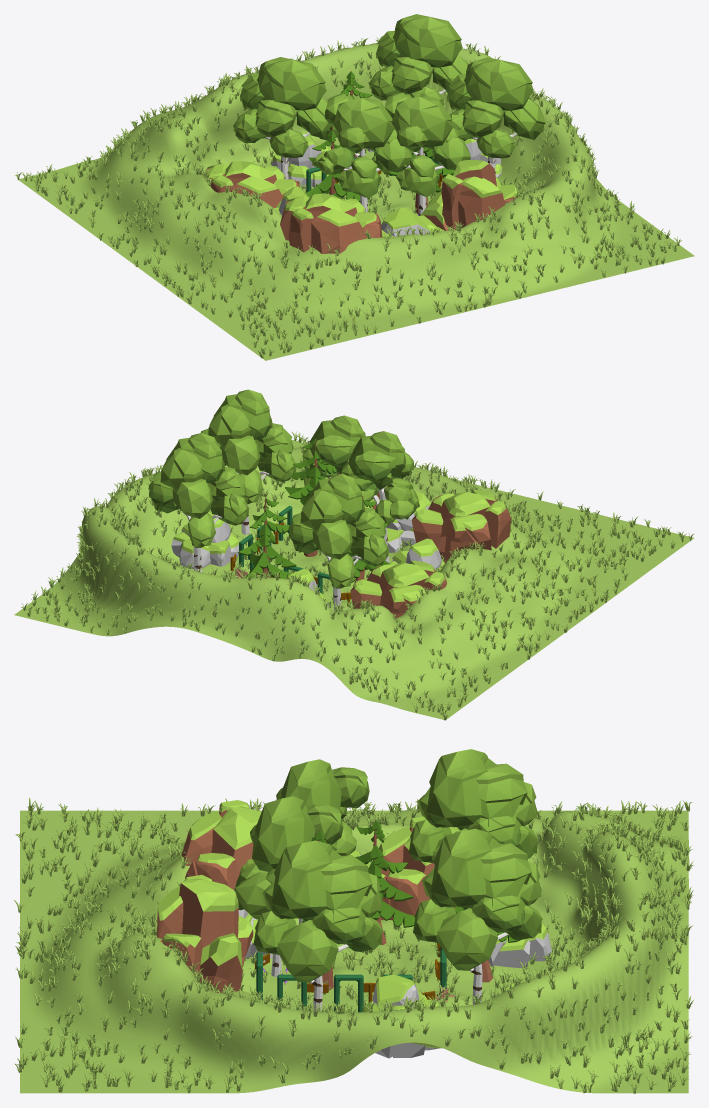
The model's file is Intro2.glb.
3 renders of one model, top to bottom at view 1: azimuth 30°, elevation 25°; view 2: azimuth 150°, elevation 25°; view 3: azimuth 270°, elevation 25°, orthographic. The views are drawn at different scales.
Parts seen in each view (by area): view 1: Plane, PP_Birch_Tree_06__1_, PP_Birch_Tree_06__2_, PP_Birch_Tree_06, PP_Birch_Tree_05, PP_Birch_Tree_05__1_, PP_Rock_Pile_Forest_Moss_10, PP_Rock_Pile_Forest_Moss_05, PP_Rock_Pile_Forest_Moss_10__1_, PP_Rock_Moss_Grown_11__1_, PP_Rock_Moss_Grown_09, PP_Tree_02__1_; view 2: Plane, PP_Birch_Tree_06, PP_Birch_Tree_06__1_, PP_Birch_Tree_06__2_, PP_Rock_Pile_Forest_Moss_10, PP_Birch_Tree_05, PP_Rock_Pile_Forest_Moss_10__1_, PP_Birch_Tree_05__1_, PP_Tree_10, PP_Rock_Moss_Grown_09__1_, PP_Tree_02, PP_Rock_Moss_Grown_11__1_ (+1 smaller); view 3: Plane, PP_Birch_Tree_06, PP_Birch_Tree_06__2_, PP_Birch_Tree_06__1_, PP_Rock_Pile_Forest_Moss_05, PP_Birch_Tree_05__1_, PP_Rock_Pile_Forest_Moss_10, PP_Birch_Tree_05, PP_Rock_Pile_Forest_Moss_10__1_, PP_Tree_02__1_, PP_Rock_Moss_Grown_09__1_, PP_Rock_Moss_Grown_09 (+1 smaller).
Boxes of the visible parts, x1=… form: Plane: x1=14, y1=36, x2=694, y2=360; PP_Birch_Tree_06__1_: x1=233, y1=57, x2=333, y2=179; PP_Birch_Tree_06__2_: x1=447, y1=57, x2=545, y2=174; PP_Birch_Tree_06: x1=369, y1=14, x2=468, y2=155; PP_Birch_Tree_05: x1=312, y1=93, x2=412, y2=212; PP_Birch_Tree_05__1_: x1=371, y1=92, x2=470, y2=215; PP_Rock_Pile_Forest_Moss_10: x1=280, y1=194, x2=381, y2=253; PP_Rock_Pile_Forest_Moss_05: x1=421, y1=160, x2=516, y2=230; PP_Rock_Pile_Forest_Moss_10__1_: x1=205, y1=161, x2=299, y2=207; PP_Rock_Moss_Grown_11__1_: x1=381, y1=208, x2=444, y2=236; PP_Rock_Moss_Grown_09: x1=271, y1=131, x2=331, y2=188; PP_Tree_02__1_: x1=305, y1=125, x2=369, y2=202; Plane: x1=14, y1=431, x2=694, y2=720; PP_Birch_Tree_06: x1=148, y1=433, x2=249, y2=572; PP_Birch_Tree_06__1_: x1=288, y1=474, x2=388, y2=610; PP_Birch_Tree_06__2_: x1=200, y1=389, x2=296, y2=534; PP_Rock_Pile_Forest_Moss_10: x1=411, y1=489, x2=511, y2=562; PP_Birch_Tree_05: x1=341, y1=431, x2=419, y2=562; PP_Rock_Pile_Forest_Moss_10__1_: x1=350, y1=560, x2=446, y2=618; PP_Birch_Tree_05__1_: x1=302, y1=415, x2=378, y2=501; PP_Tree_10: x1=238, y1=497, x2=296, y2=578; PP_Rock_Moss_Grown_09__1_: x1=171, y1=512, x2=239, y2=568; PP_Tree_02: x1=285, y1=438, x2=337, y2=556; PP_Rock_Moss_Grown_11__1_: x1=386, y1=491, x2=430, y2=552; Plane: x1=14, y1=797, x2=694, y2=1093; PP_Birch_Tree_06: x1=413, y1=828, x2=542, y2=1004; PP_Birch_Tree_06__2_: x1=253, y1=840, x2=383, y2=1011; PP_Birch_Tree_06__1_: x1=408, y1=749, x2=538, y2=863; PP_Rock_Pile_Forest_Moss_05: x1=156, y1=875, x2=253, y2=993; PP_Birch_Tree_05__1_: x1=234, y1=796, x2=343, y2=976; PP_Rock_Pile_Forest_Moss_10: x1=181, y1=800, x2=261, y2=890; PP_Birch_Tree_05: x1=276, y1=759, x2=369, y2=924; PP_Rock_Pile_Forest_Moss_10__1_: x1=379, y1=816, x2=459, y2=922; PP_Tree_02__1_: x1=355, y1=820, x2=415, y2=944; PP_Rock_Moss_Grown_09__1_: x1=362, y1=974, x2=440, y2=1058; PP_Rock_Moss_Grown_09: x1=488, y1=923, x2=551, y2=967.
Bounding box in the file's own units: 27.23 × 10.28 × 27.02.
7 materials, 1 textured.
